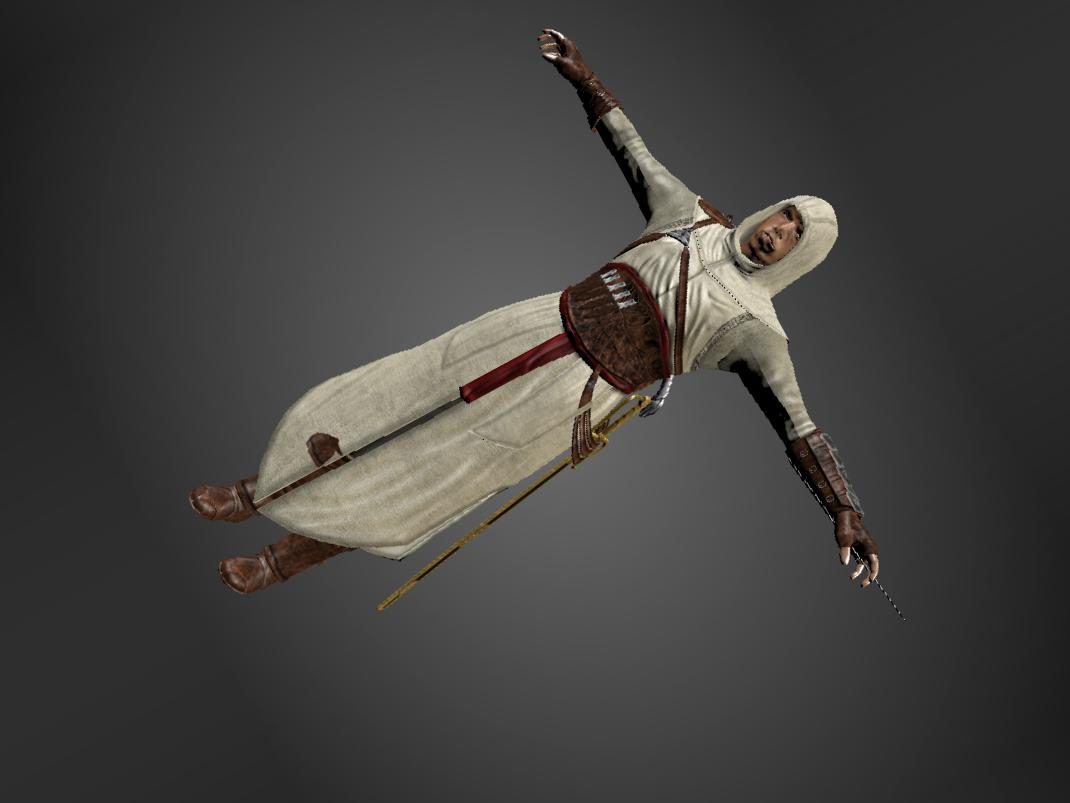clip: (296, 434, 348, 469)
